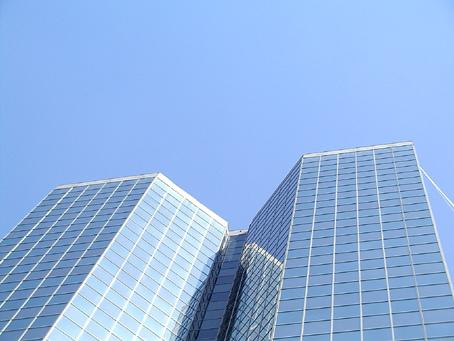building: (0, 141, 454, 341)
